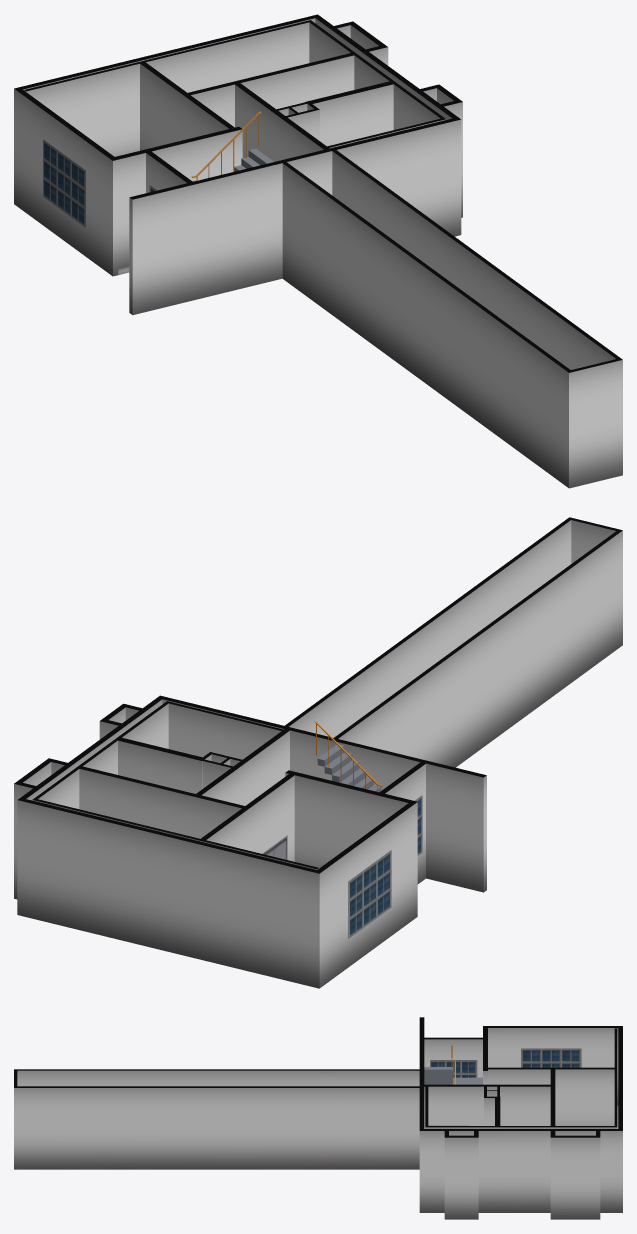
Rendered from soubrain_T1-10-1B.glb.
3 renders of one model, top to bottom at view 1: azimuth 30°, elevation 25°; view 2: azimuth 150°, elevation 25°; view 3: azimuth 270°, elevation 25°, orthographic. The views are drawn at different scales.
Visible parts, largest first — view 1: T1-10-1B, Box253; view 2: T1-10-1B, Box253, Z; view 3: T1-10-1B, Box253, Z.
Boxes of the visible parts, box(x1,y1,x2,y2) form: T1-10-1B: box(14, 14, 622, 488); Box253: box(43, 139, 157, 227); T1-10-1B: box(14, 517, 622, 988); Box253: box(348, 795, 422, 938); Z: box(317, 744, 381, 792); T1-10-1B: box(14, 1017, 622, 1219); Box253: box(430, 1048, 581, 1077); Z: box(424, 1067, 482, 1084).
Bounding box in the file's own units: 12.6 × 5.18 × 26.98.
Materials: 8 (7 with a texture image).
